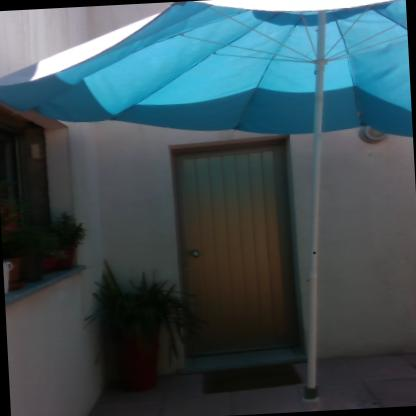closed: (157, 126, 309, 370)
